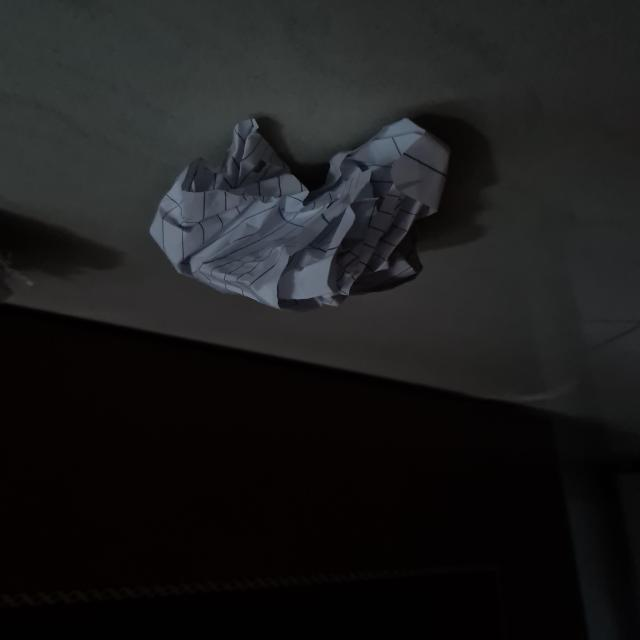kertas: (151, 125, 441, 304)
